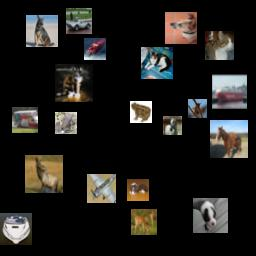airplane: (87, 174, 116, 203)
automobile: (66, 8, 92, 34)
bird: (188, 99, 207, 118)
cat: (55, 64, 93, 102), (141, 47, 173, 79), (205, 31, 234, 60)
deer: (25, 155, 63, 193), (131, 209, 157, 235)
dog: (193, 198, 228, 233), (26, 15, 58, 47), (165, 12, 197, 44), (127, 179, 149, 201)
frog: (55, 112, 77, 134), (130, 101, 152, 123)
ship: (212, 74, 247, 109), (0, 213, 32, 245), (84, 38, 106, 60)
truck: (12, 107, 38, 133)
